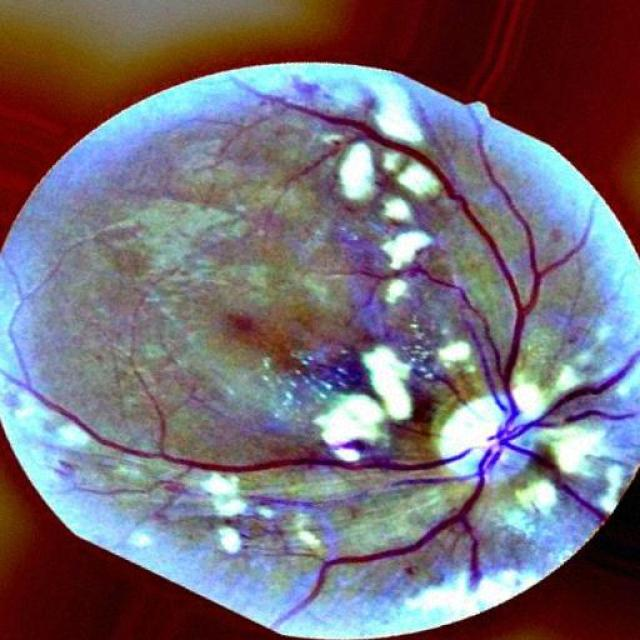Macula: (223, 308, 270, 346)
Nerves: (281, 350, 639, 618), (260, 94, 592, 380), (0, 360, 474, 472), (395, 262, 499, 360), (425, 370, 460, 399), (561, 409, 635, 422)
Optic Disk: (441, 398, 535, 483)
